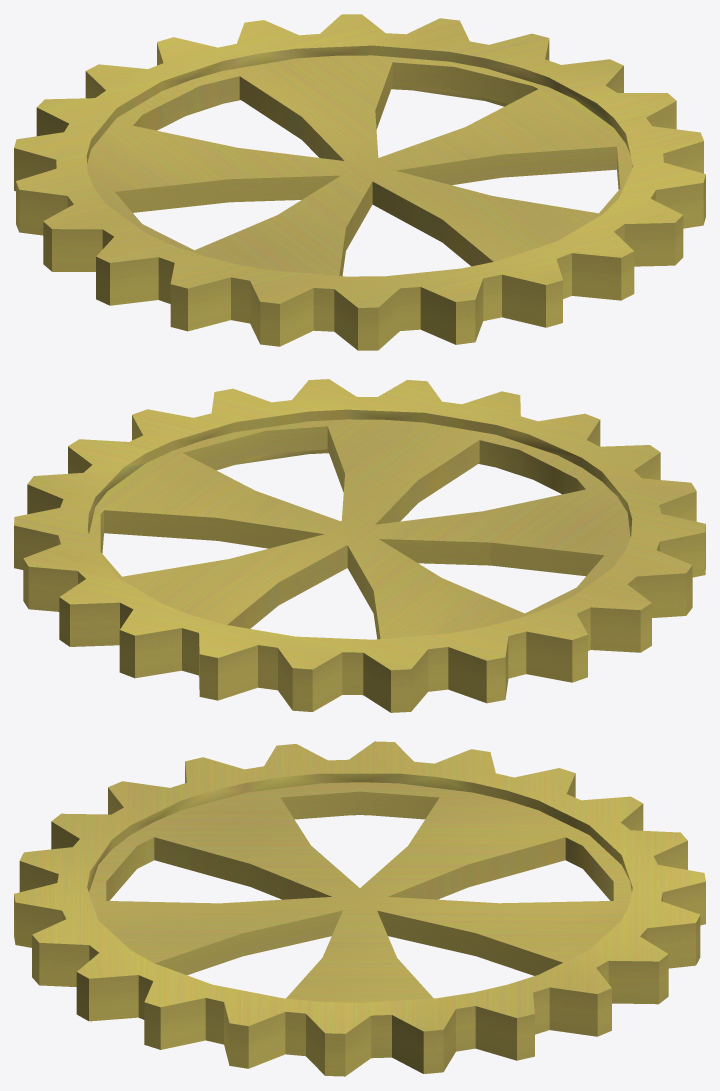
File: CogInset5Spoke022.fbx
3 views of the same model, one above another, from view 1: azimuth 30°, elevation 25°; view 2: azimuth 150°, elevation 25°; view 3: azimuth 270°, elevation 25° (orthographic).
Parts seen in each view (by area): view 1: CogInset5Spoke022; view 2: CogInset5Spoke022; view 3: CogInset5Spoke022.
Part boxes in pixels (left/top/right/bottom): CogInset5Spoke022: left=14, top=14, right=705, bottom=350; CogInset5Spoke022: left=14, top=379, right=705, bottom=712; CogInset5Spoke022: left=14, top=741, right=705, bottom=1076.
Size of the model in its own units: 215 by 14.59 by 215.
